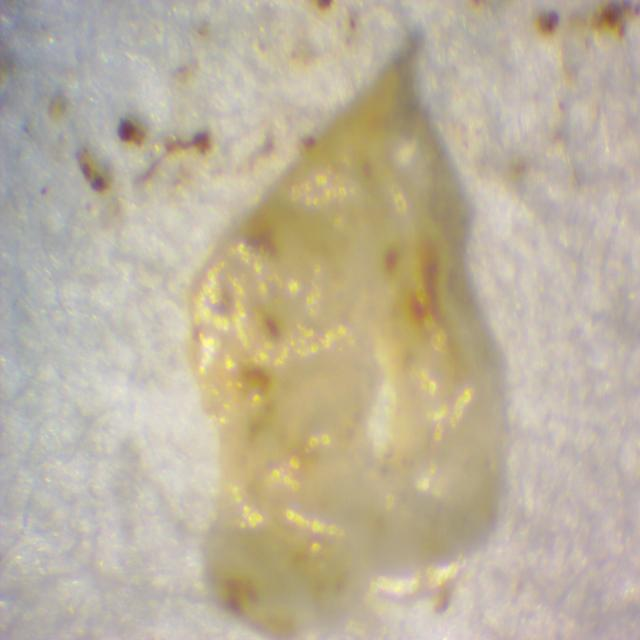microplastic: (185, 64, 503, 631)
